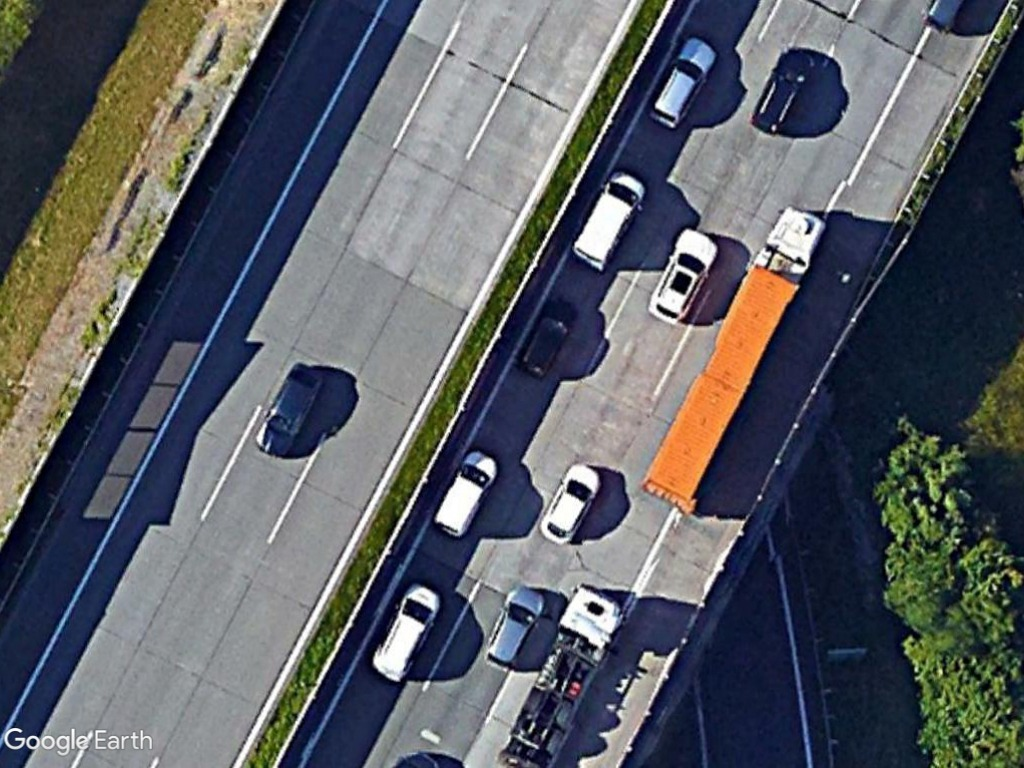car: (368, 581, 446, 692), (641, 30, 721, 132), (252, 354, 327, 462), (645, 223, 718, 329), (752, 42, 820, 141), (479, 582, 550, 676), (514, 292, 582, 385), (539, 458, 607, 548)
longvehicle: (636, 204, 829, 516)
van: (566, 164, 650, 275), (429, 446, 502, 541)
